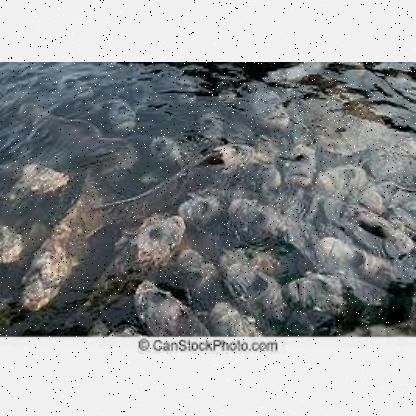gurame: (19, 180, 101, 308), (5, 156, 76, 204)
